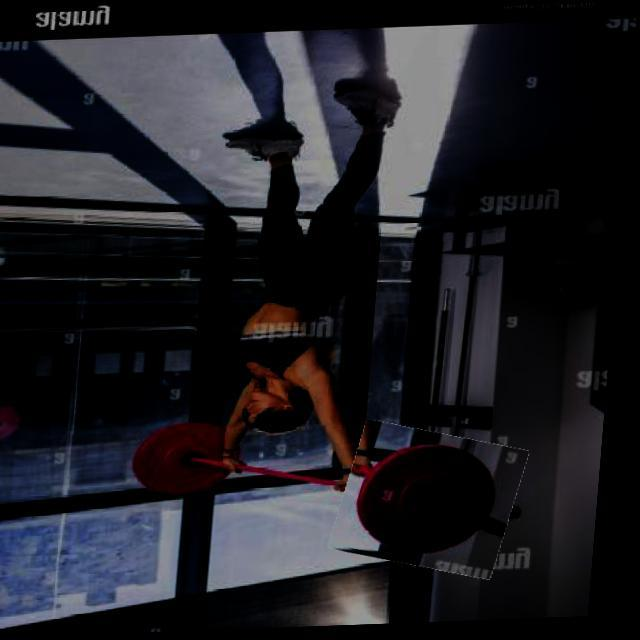barbell: (343, 428, 535, 581)
